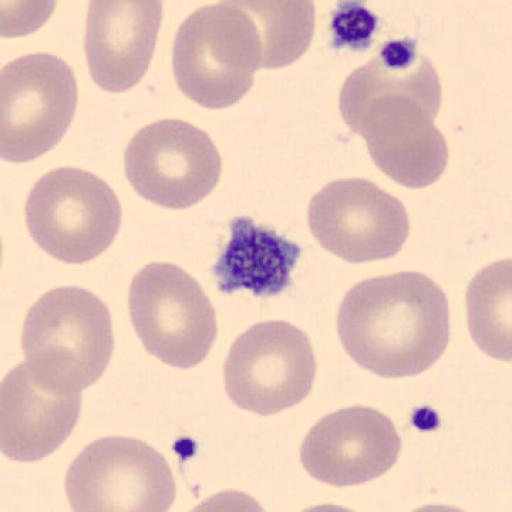Platelet: (210, 211, 307, 301), (397, 402, 448, 441), (332, 11, 378, 54), (166, 424, 202, 472), (381, 32, 423, 72)
RBC: (334, 268, 452, 381), (19, 285, 115, 399), (171, 2, 263, 112), (127, 260, 219, 370), (24, 164, 124, 265), (337, 55, 441, 148), (122, 116, 224, 210), (222, 319, 317, 417), (306, 176, 411, 264), (62, 434, 178, 510), (298, 404, 402, 486), (0, 351, 75, 464), (356, 99, 450, 189), (83, 0, 162, 95), (0, 50, 55, 162), (232, 0, 317, 72), (464, 257, 510, 361), (0, 0, 64, 38)
